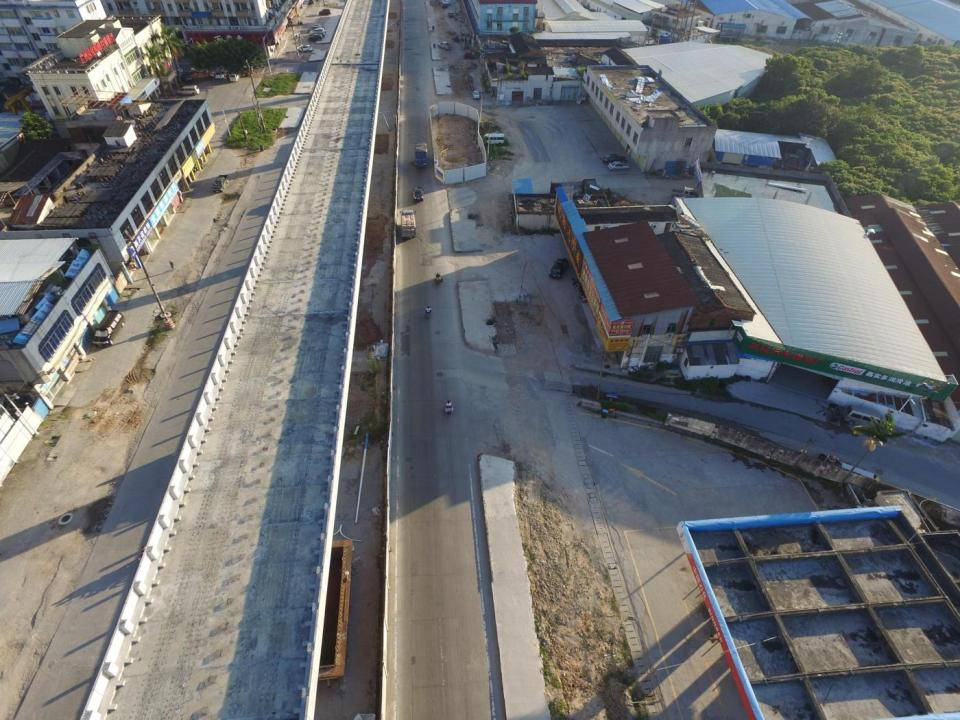car: (548, 256, 569, 280), (602, 152, 626, 165), (606, 160, 630, 171), (412, 186, 424, 202), (214, 68, 227, 80), (305, 26, 324, 34), (297, 44, 313, 53), (228, 71, 241, 82), (470, 89, 482, 100), (310, 28, 326, 36), (316, 8, 332, 16), (308, 32, 325, 39), (307, 33, 323, 40), (180, 74, 192, 82), (437, 42, 450, 49), (447, 10, 455, 17), (443, 0, 453, 5), (442, 2, 447, 8)
truck: (398, 208, 419, 239), (413, 140, 430, 167), (671, 184, 696, 200), (212, 174, 230, 194)
van: (92, 310, 125, 347), (842, 404, 887, 431), (483, 132, 507, 146), (176, 84, 198, 97)
